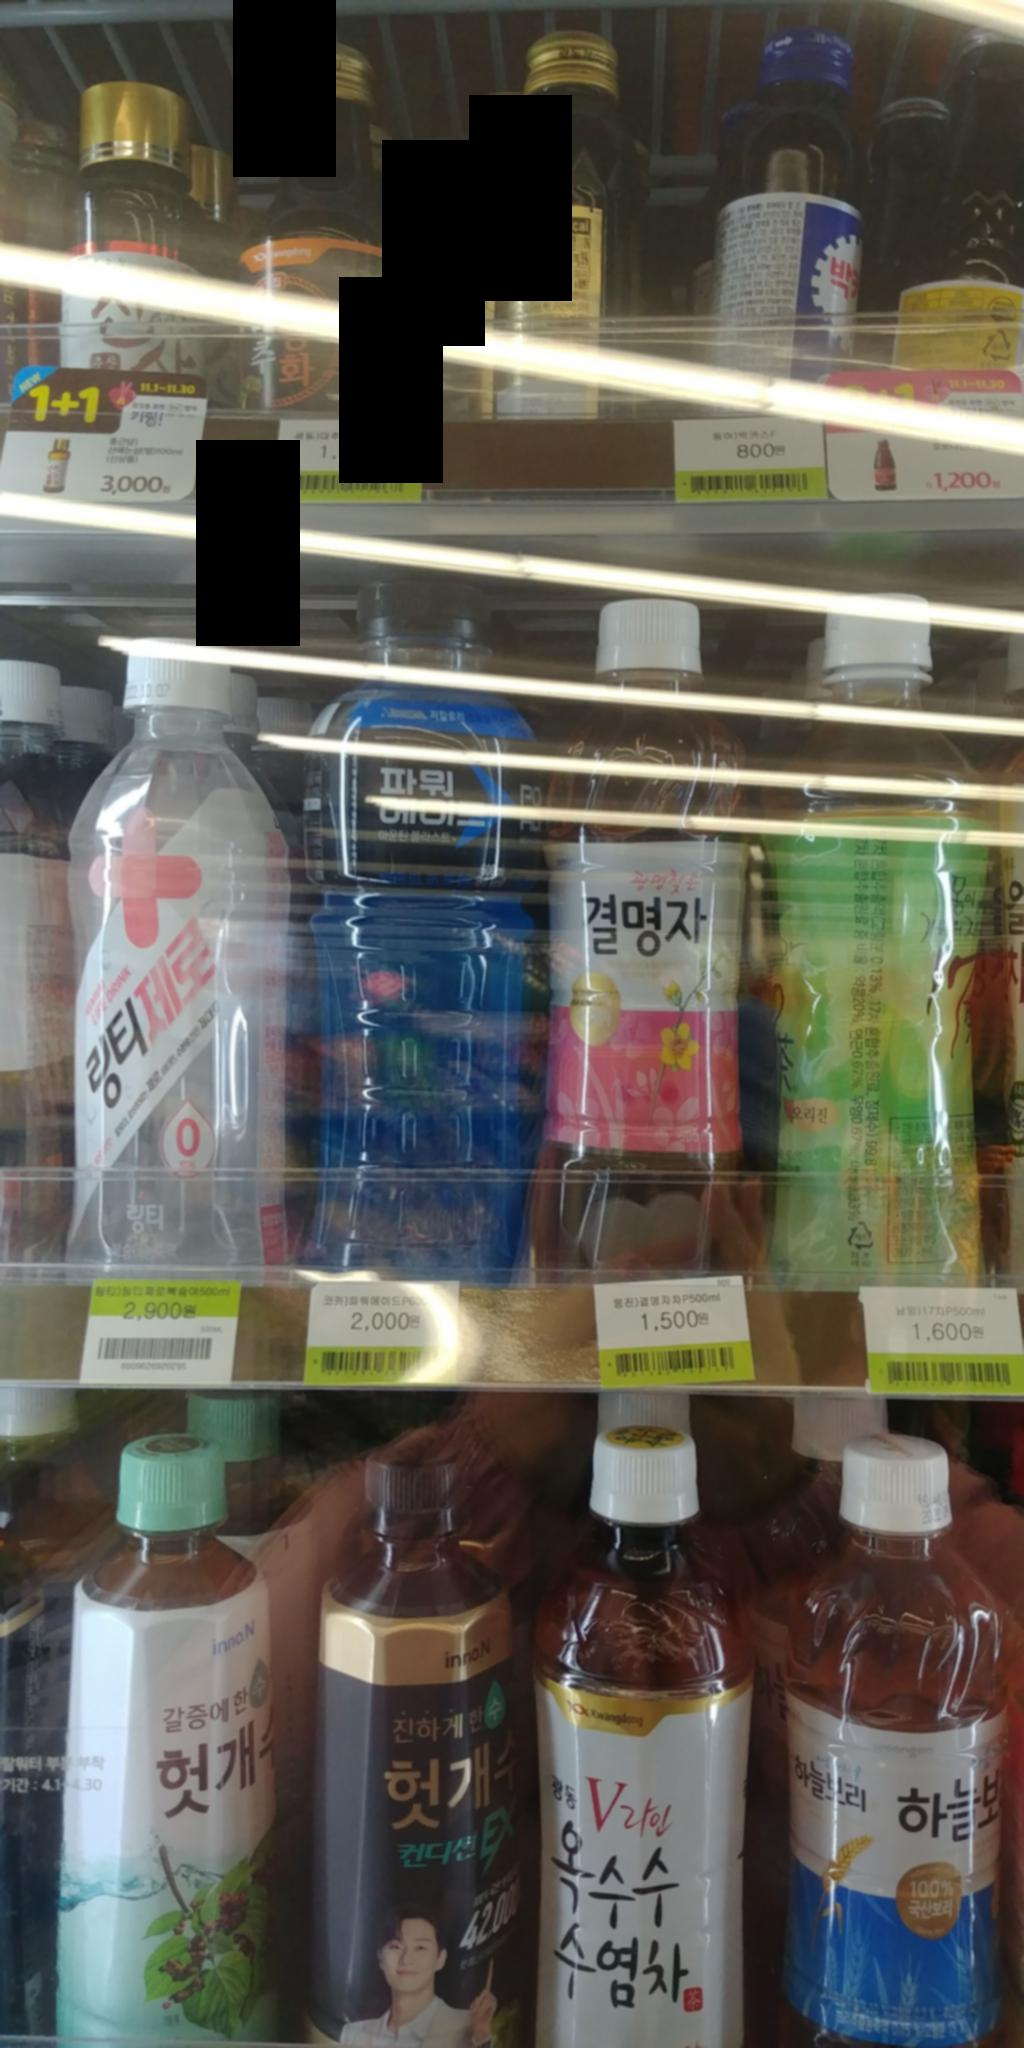haneulbori: (777, 1415, 1024, 2047)
oksususuyeomcha: (525, 1422, 765, 2048)
powerade_mountainblast: (311, 573, 549, 1297)
